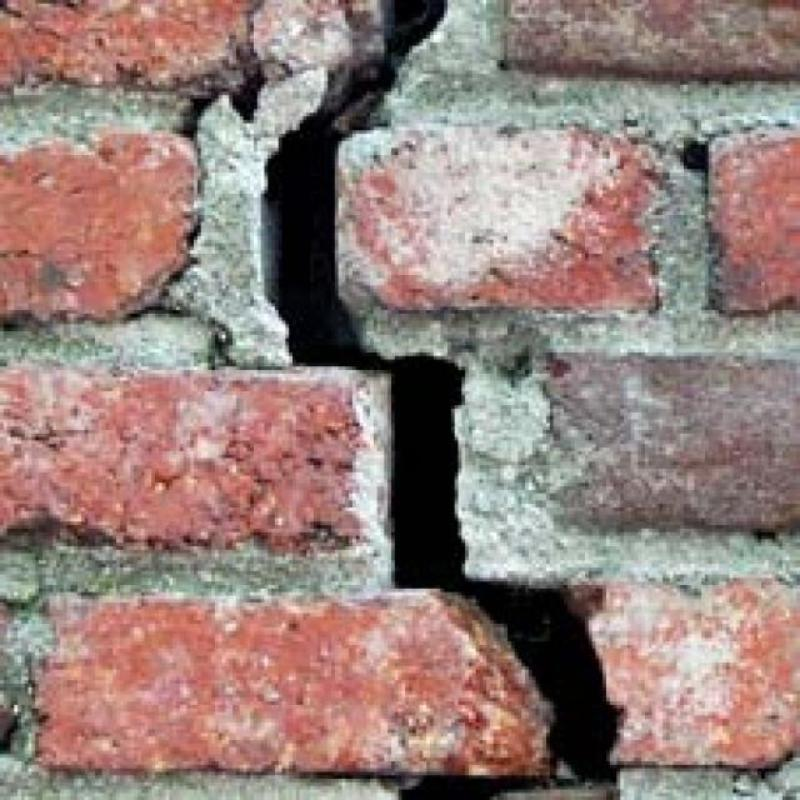crack: (264, 0, 617, 785), (400, 775, 550, 800), (223, 56, 266, 120), (180, 94, 218, 138), (683, 141, 708, 173)
